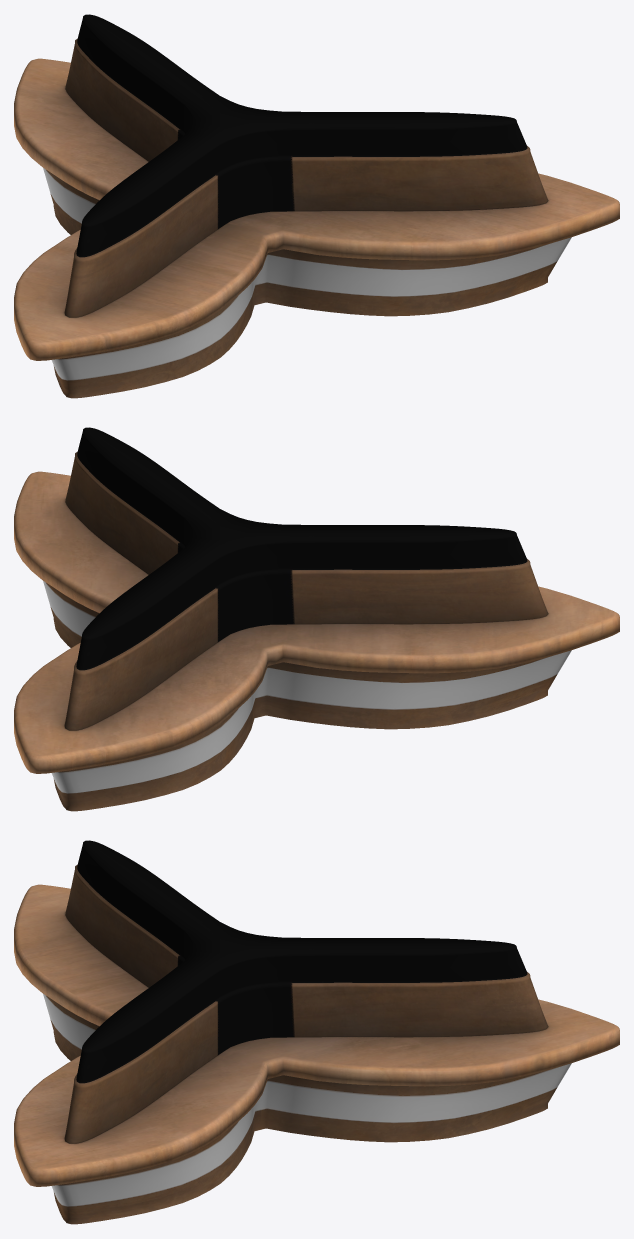
File: CadeiraLobby.fbx
The picture shows the model from 3 angles, top to bottom: view 1: azimuth 30°, elevation 25°; view 2: azimuth 150°, elevation 25°; view 3: azimuth 270°, elevation 25°; orthographic projection.
Visible parts, largest first — view 1: cadeira topo.bake.001; view 2: cadeira topo.bake.001; view 3: cadeira topo.bake.001.
Boxes of the visible parts, left/top/right/bottom form: cadeira topo.bake.001: left=14, top=14, right=619, bottom=398; cadeira topo.bake.001: left=14, top=427, right=619, bottom=811; cadeira topo.bake.001: left=14, top=840, right=619, bottom=1224.
Bounding box in the file's own units: 439 × 115 × 391.
